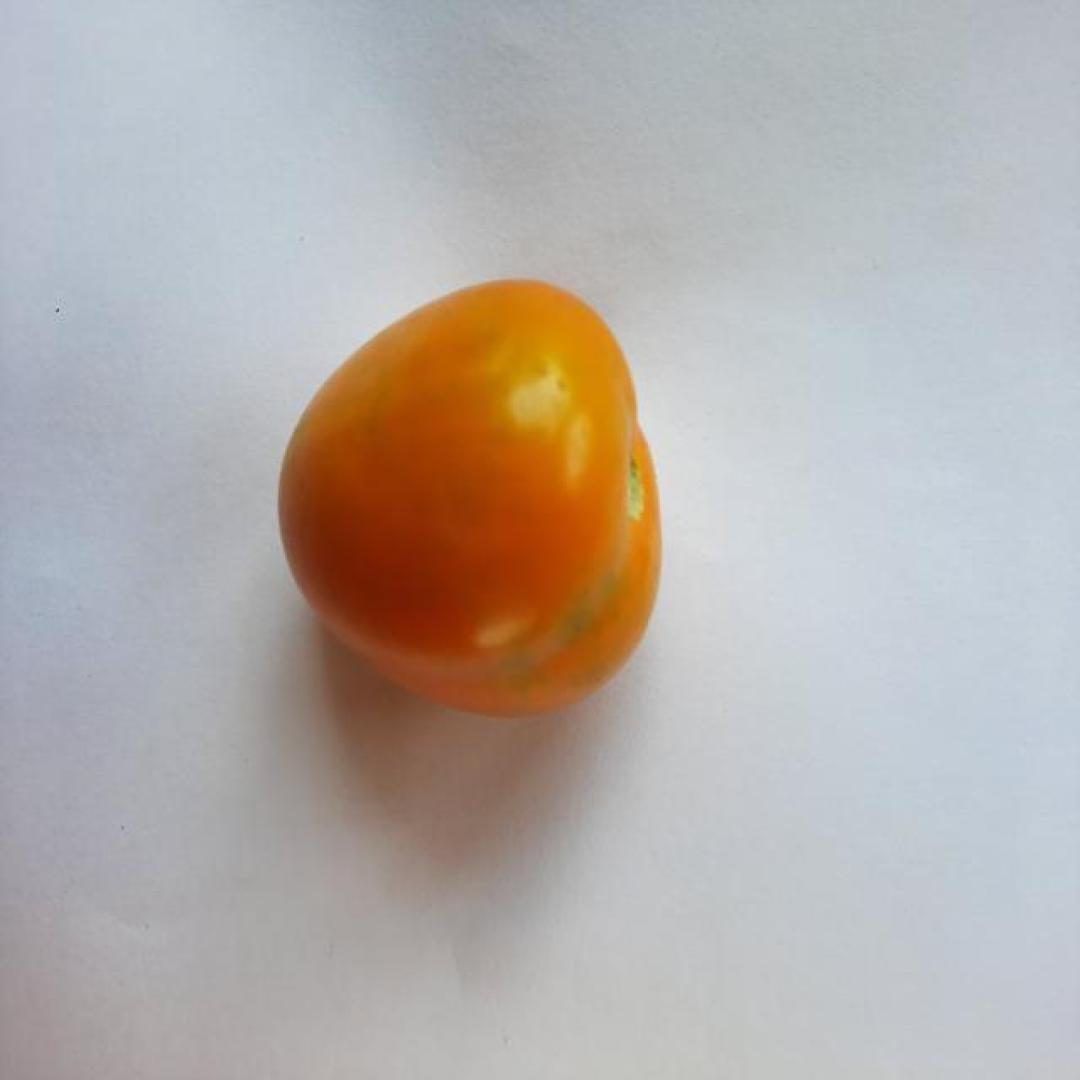setengah_matang: (277, 275, 663, 719)
